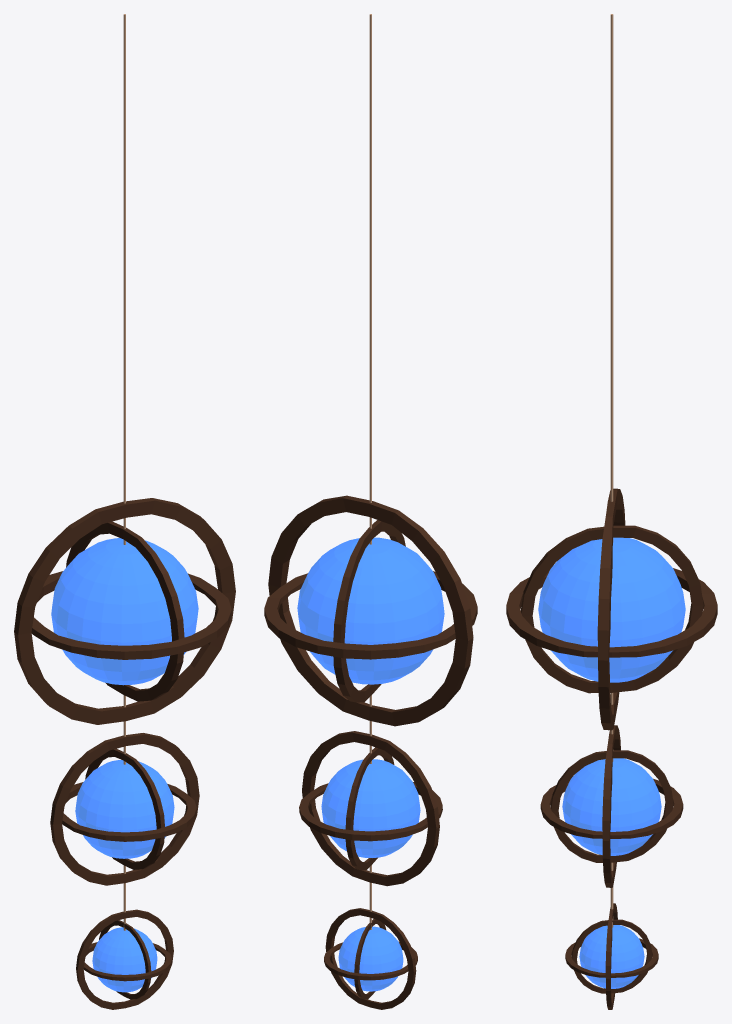
The model's file is Luce 5 Blu .fbx.
The picture shows the model from 3 angles, left to right: view 1: azimuth 30°, elevation 25°; view 2: azimuth 150°, elevation 25°; view 3: azimuth 270°, elevation 25°; orthographic projection.
Visible parts, largest first — view 1: Sphere.020; view 2: Sphere.020; view 3: Sphere.020.
Boxes of the visible parts, x1,y1,x2,y2 form: Sphere.020: [14, 14, 235, 1009]; Sphere.020: [264, 14, 477, 1009]; Sphere.020: [506, 14, 717, 1009].
Size of the model in its own units: 61.59 by 279 by 54.08.
